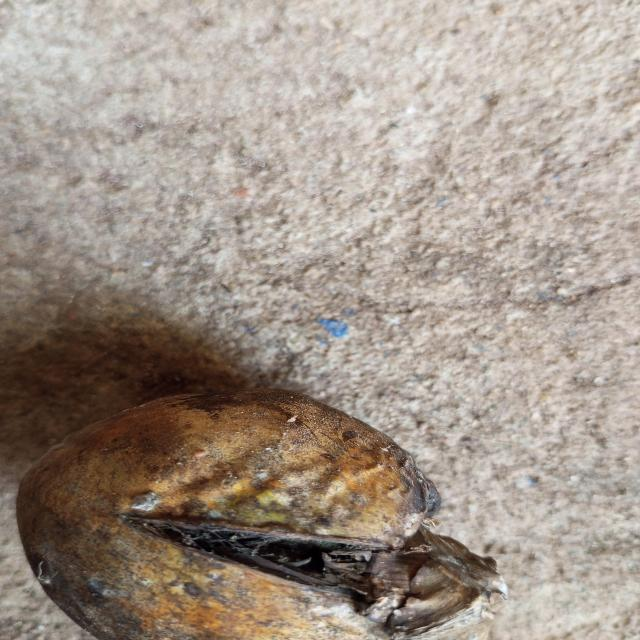damaged: (17, 390, 506, 640)
